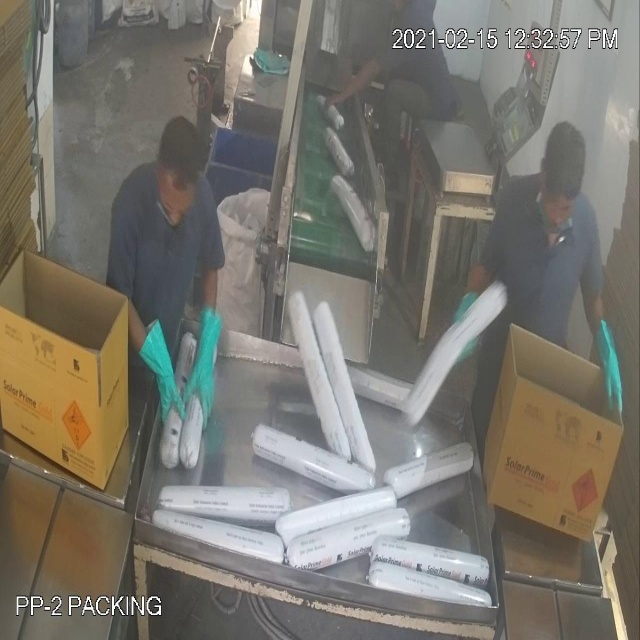Guantes: (132, 305, 185, 436), (180, 294, 227, 433), (591, 308, 627, 422)
Sin_guantes: (322, 47, 388, 108)
